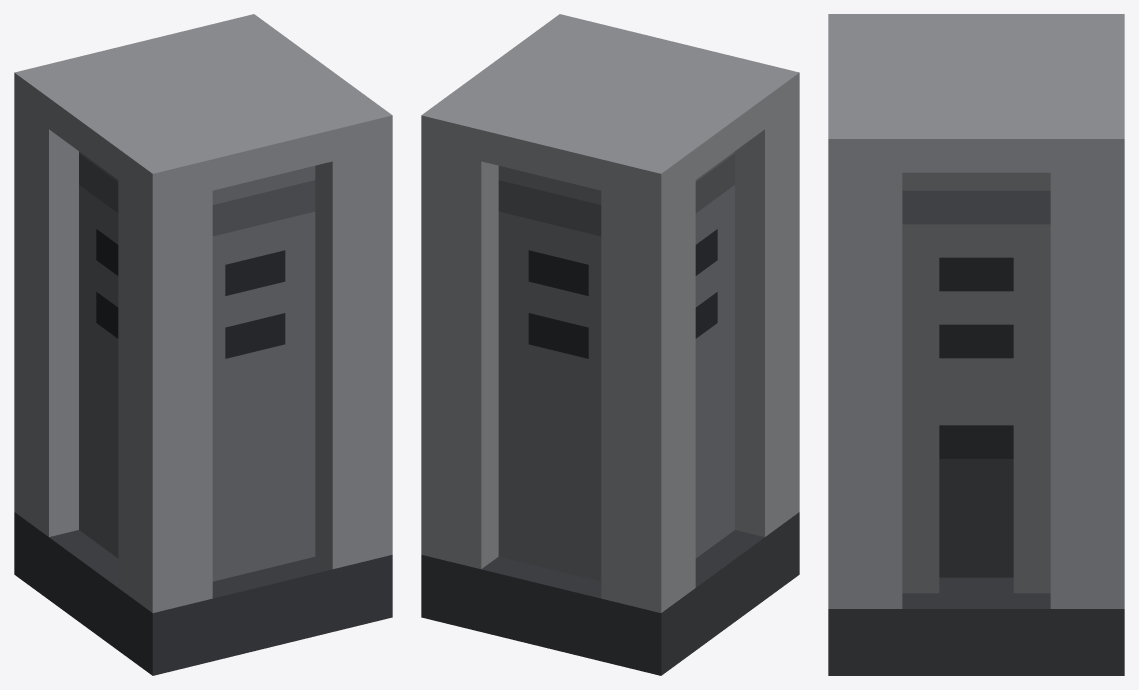
3 renders of one model, left to right at view 1: azimuth 30°, elevation 25°; view 2: azimuth 150°, elevation 25°; view 3: azimuth 270°, elevation 25°, orthographic. The views are drawn at different scales.
Parts seen in each view (by area): view 1: Base_1x1; view 2: Base_1x1; view 3: Base_1x1.
Boxes of the visible parts, bbox=[...] form: Base_1x1: bbox=[14, 14, 392, 675]; Base_1x1: bbox=[421, 14, 799, 675]; Base_1x1: bbox=[828, 14, 1124, 675].
Bounding box in the file's own units: 4 × 8 × 4.
1 material, 1 textured.
